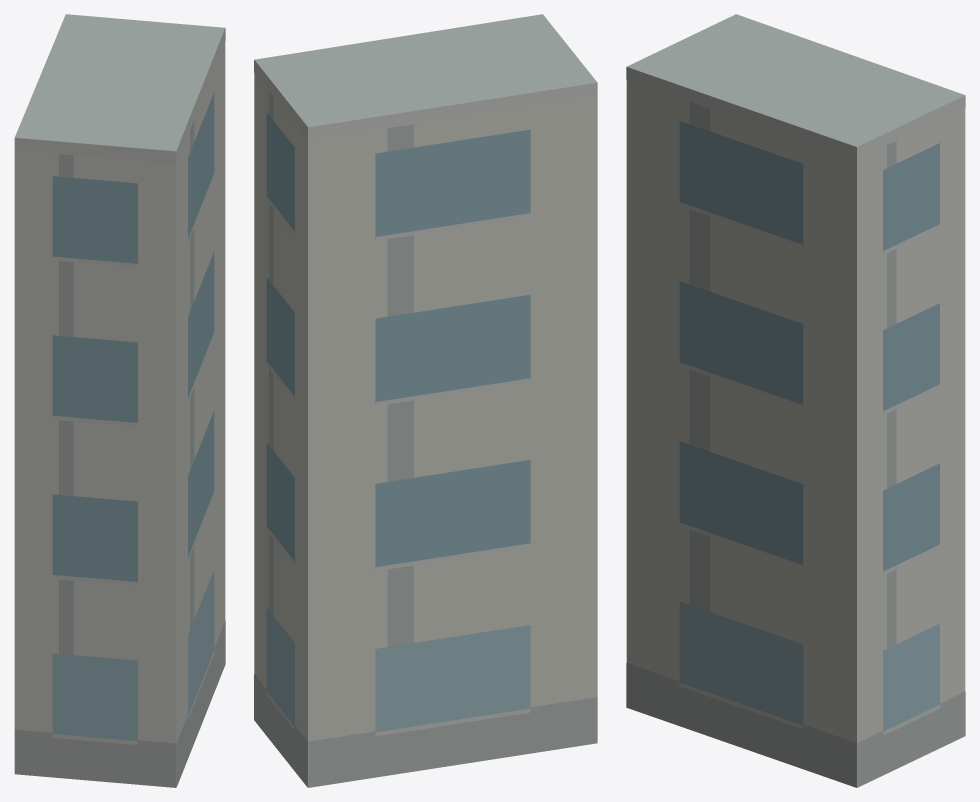
File: survey-upis-33000289.glb
3 renders of one model, left to right at view 1: azimuth 30°, elevation 25°; view 2: azimuth 150°, elevation 25°; view 3: azimuth 270°, elevation 25°, orthographic. The views are drawn at different scales.
Parts seen in each view (by area): view 1: survey-upis-33000289.tmp; view 2: survey-upis-33000289.tmp; view 3: survey-upis-33000289.tmp.
Part boxes in pixels (bbox=[...]): survey-upis-33000289.tmp: bbox=[14, 14, 225, 787]; survey-upis-33000289.tmp: bbox=[254, 14, 597, 787]; survey-upis-33000289.tmp: bbox=[626, 14, 965, 787].
Bounding box in the file's own units: 5.44 × 12.2 × 5.86.
